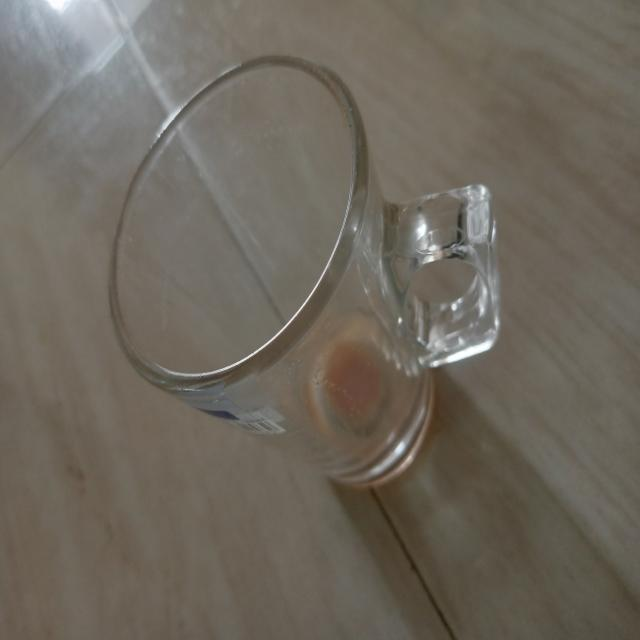glass-VX4N: (108, 54, 502, 490)
